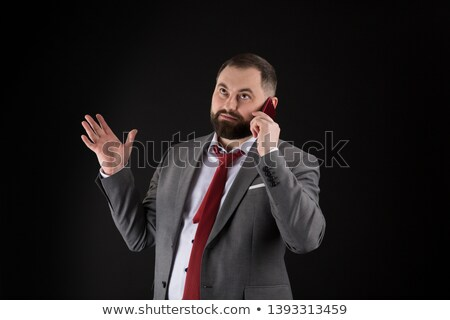phone: (256, 98, 278, 137)
talk: (207, 82, 285, 156)
